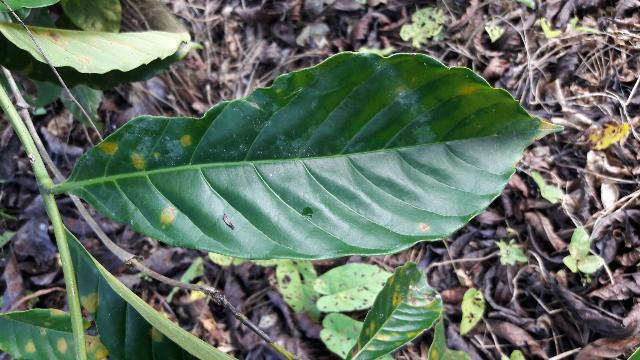rust_level_1: (64, 51, 558, 261)
